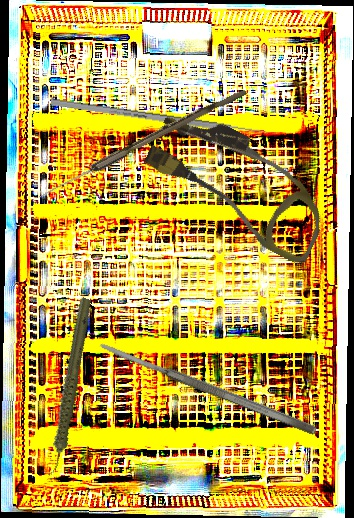Cannula: (133, 100, 344, 267)
Handpiece: (7, 295, 128, 479)
Pusher: (50, 98, 276, 138)
Spatula Surgical: (97, 337, 318, 438)
Surgical Spoon: (36, 84, 248, 203)
